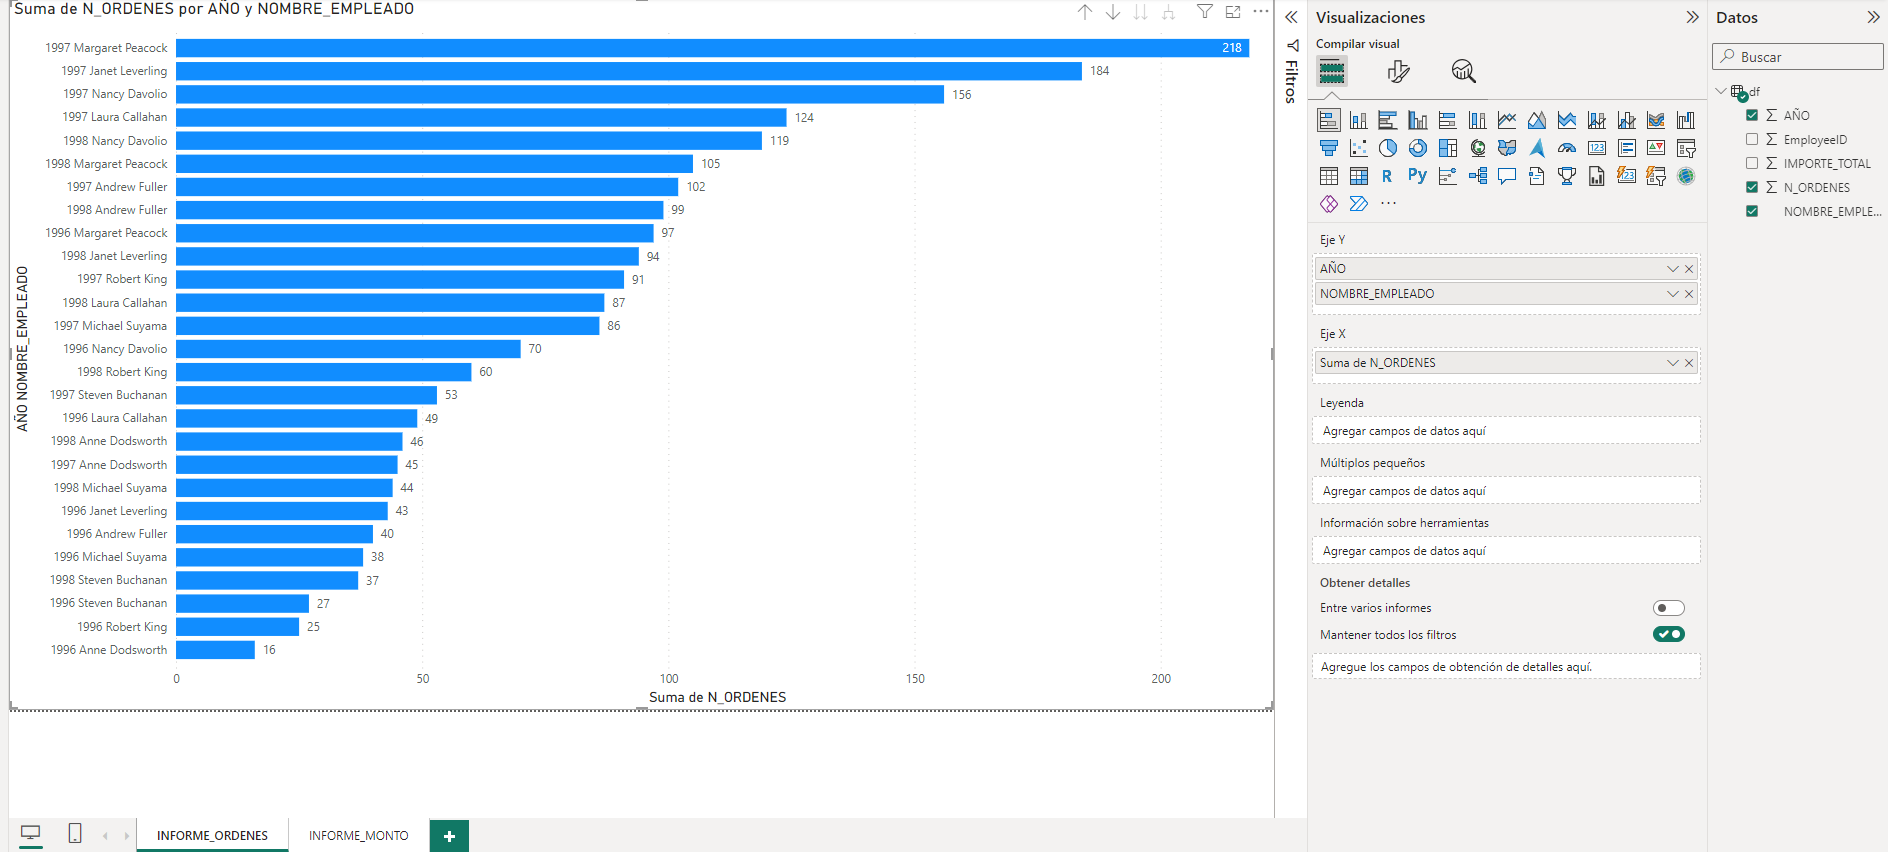

This screenshot's page, from the dashboard's own definition file:
{"tool":"powerbi","page":{"name":"INFORME_ORDENES","canvas":[1280,720],"ordinal":0},"visuals":[{"type":"barChart","fields":{"Category":["df.AÑO","df.NOMBRE_EMPLEADO"],"Y":["Sum(df.N_ORDENES)"]},"box":[0,0,906.6,720.4],"z":0}]}

Visuals, with their boxes on the page's 1280x720 design canvas (x1, y1, x2, y2). These are canvas units, not pixel positions in the 1889x852 screenshot, which may show the page scaled, cropped or inside an application window:
barChart - df.AÑO x df.NOMBRE_EMPLEADO: {"left": 0, "top": 0, "right": 907, "bottom": 720}
